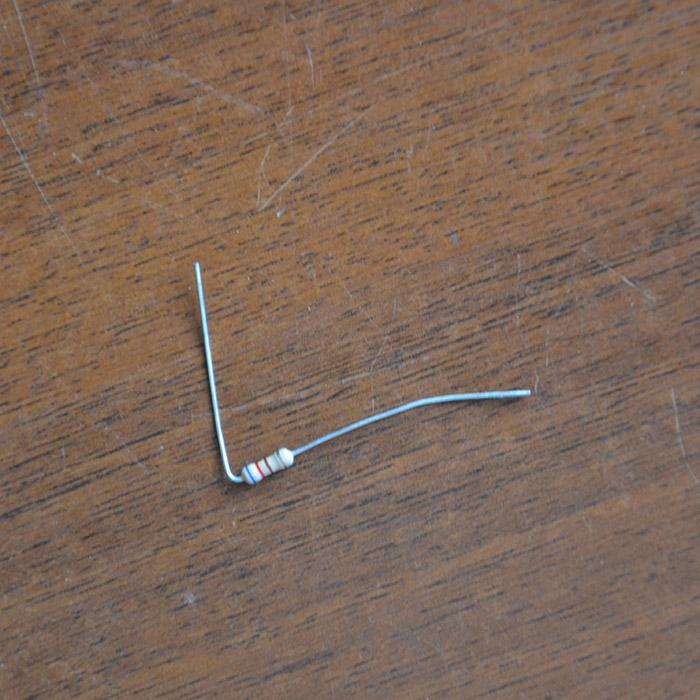resistor: (240, 447, 295, 485)
